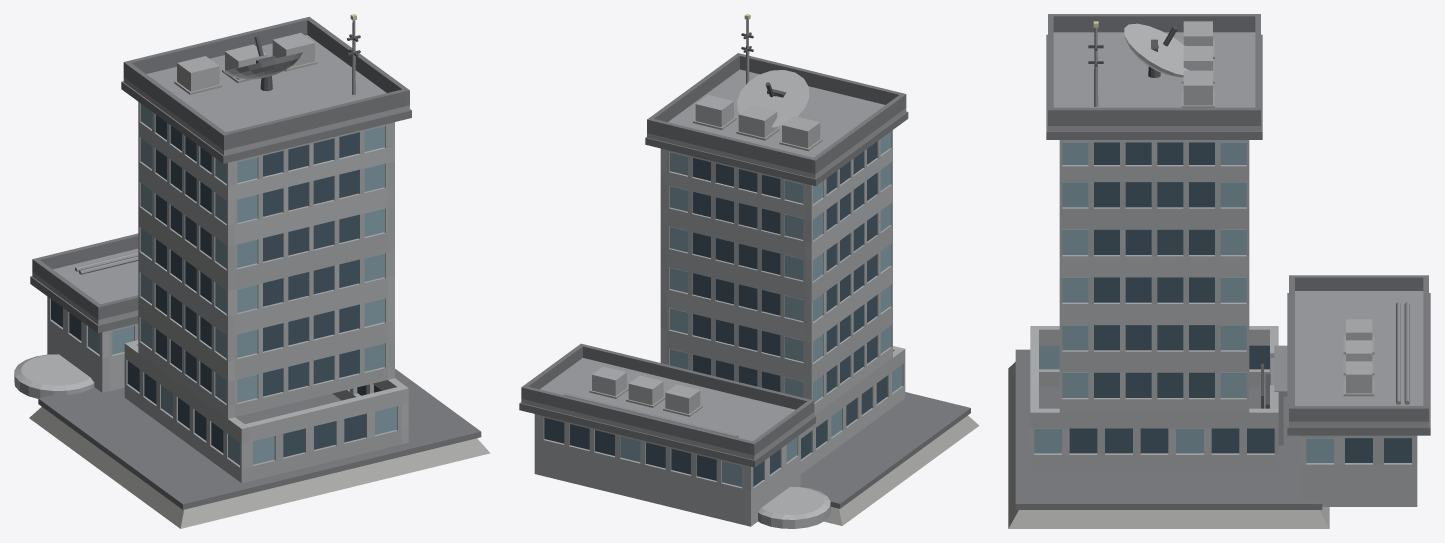
The model's file is western_bureau.glb.
The picture shows the model from 3 angles, left to right: view 1: azimuth 30°, elevation 25°; view 2: azimuth 150°, elevation 25°; view 3: azimuth 270°, elevation 25°; orthographic projection. The views are drawn at different scales.
Visible parts, largest first — view 1: tower_wall, tower_glass, plinth_cap, base_wall, tower_deck, tower_parapet, plinth, base_glass, tunnel_wall, tunnel_parapet, tower_plant, tunnel_deck (+6 smaller); view 2: tower_wall, tower_glass, tunnel_wall, tunnel_parapet, tower_parapet, plinth_cap, tunnel_deck, tower_deck, tunnel_glass, base_wall, tower_plant, tunnel_plant (+6 smaller); view 3: tower_wall, tower_glass, plinth_cap, base_wall, tunnel_deck, tower_deck, tower_parapet, plinth, tunnel_wall, base_glass, tunnel_parapet, tower_plant (+7 smaller).
Boxes of the visible parts, x1,y1,x2,y2 form: tower_wall: [138, 102, 394, 418]; tower_glass: [140, 103, 384, 403]; plinth_cap: [38, 369, 481, 509]; base_wall: [124, 340, 408, 483]; tower_deck: [123, 35, 409, 155]; tower_parapet: [123, 16, 409, 150]; plinth: [29, 407, 490, 528]; base_glass: [127, 361, 396, 465]; tunnel_wall: [47, 296, 138, 392]; tunnel_parapet: [32, 233, 138, 319]; tower_plant: [174, 33, 317, 94]; tunnel_deck: [32, 248, 138, 324]; tower_wall: [660, 130, 892, 414]; tower_glass: [669, 131, 890, 402]; tunnel_wall: [534, 414, 800, 526]; tunnel_parapet: [521, 343, 814, 455]; tower_parapet: [647, 53, 906, 174]; plinth_cap: [799, 392, 970, 508]; tunnel_deck: [521, 358, 814, 459]; tower_deck: [647, 69, 906, 178]; tunnel_glass: [544, 417, 797, 486]; base_wall: [800, 346, 905, 474]; tower_plant: [693, 95, 822, 151]; tunnel_plant: [589, 366, 702, 416]; tower_wall: [1059, 140, 1249, 412]; tower_glass: [1062, 142, 1246, 397]; plinth_cap: [1015, 349, 1322, 509]; base_wall: [1030, 326, 1283, 469]; tunnel_deck: [1289, 291, 1428, 426]; tower_deck: [1048, 32, 1260, 131]; tower_parapet: [1048, 14, 1260, 125]; plinth: [1008, 362, 1329, 528]; tunnel_wall: [1300, 435, 1417, 506]; base_glass: [1034, 345, 1274, 453]; tunnel_parapet: [1289, 275, 1428, 421]; tower_plant: [1181, 21, 1214, 107].
Bounding box in the file's own units: 26 × 34.52 × 28.9.
